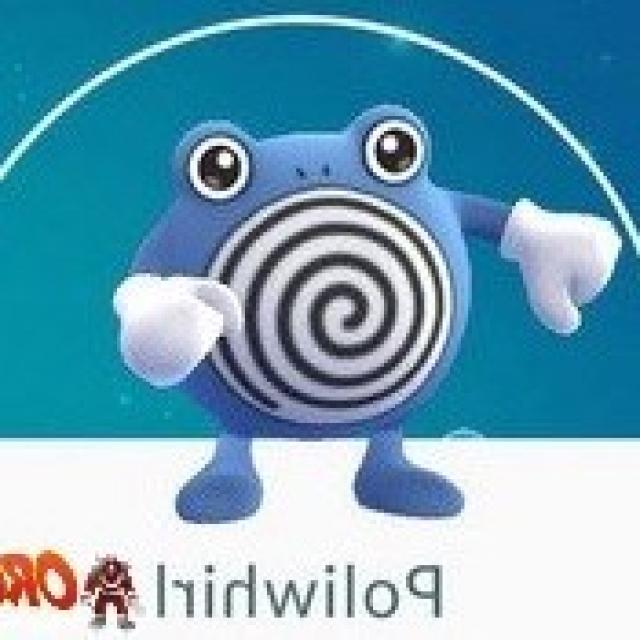Poliwhirl: (122, 117, 601, 534)
